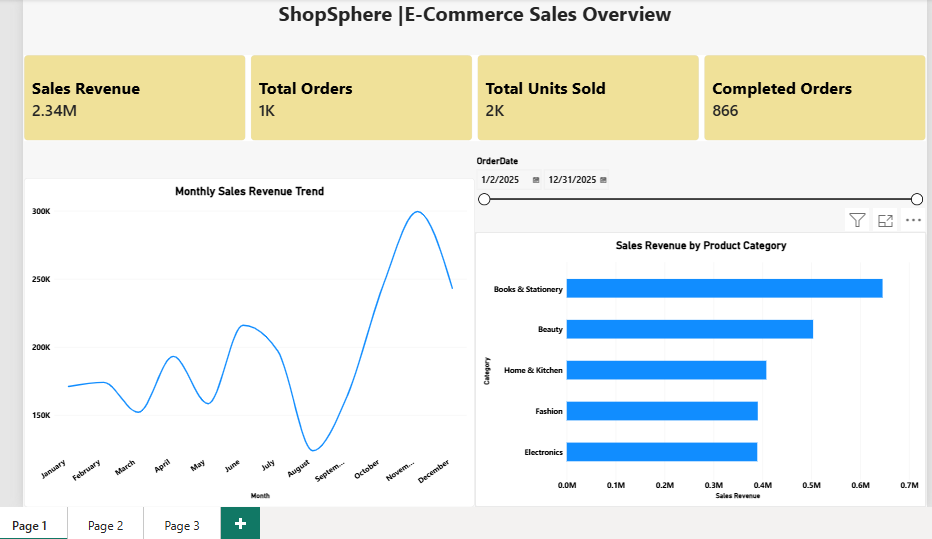

The page's visual inventory and layout, read from the dashboard file:
{"tool":"powerbi","page":{"name":"Page 1","canvas":[1920,1080],"ordinal":0},"visuals":[{"type":"cardVisual","fields":{"Data":["Orders.Sales Revenue","OrderItems.Total Orders","OrderItems.Total Units Sold","Orders.Completed Orders"]},"box":[1.9,119.2,1917.3,182.7],"z":0},{"type":"lineChart","title":"Monthly Sales Revenue Trend","fields":{"Category":["Orders.OrderDate.Variation.Date Hierarchy.Month"],"Y":["Orders.Sales Revenue"]},"box":[2.5,380,957.5,700],"z":1000},{"type":"textbox","box":[1742,237,178,756],"z":2000},{"type":"textbox","box":[1.9,0,1917.3,98.1],"z":3000},{"type":"clusteredBarChart","title":"Sales Revenue by Product Category","fields":{"Category":["Products.Category"],"Y":["Orders.Sales Revenue"]},"box":[960,495,960,585],"z":4000},{"type":"slicer","fields":{"Values":["Orders.OrderDate"]},"box":[957.7,334.6,959.6,159.6],"z":5000}]}

Visuals, with their boxes on the page's 1920x1080 design canvas (x1, y1, x2, y2). These are canvas units, not pixel positions in the 932x539 screenshot, which may show the page scaled, cropped or inside an application window:
cardVisual - Orders.Sales Revenue x OrderItems.Total Orders: bbox=[2, 119, 1919, 302]
"Monthly Sales Revenue Trend" lineChart: bbox=[2, 380, 960, 1080]
textbox: bbox=[1742, 237, 1920, 993]
textbox: bbox=[2, 0, 1919, 98]
"Sales Revenue by Product Category" clusteredBarChart: bbox=[960, 495, 1920, 1080]
slicer - Orders.OrderDate: bbox=[958, 335, 1917, 494]
